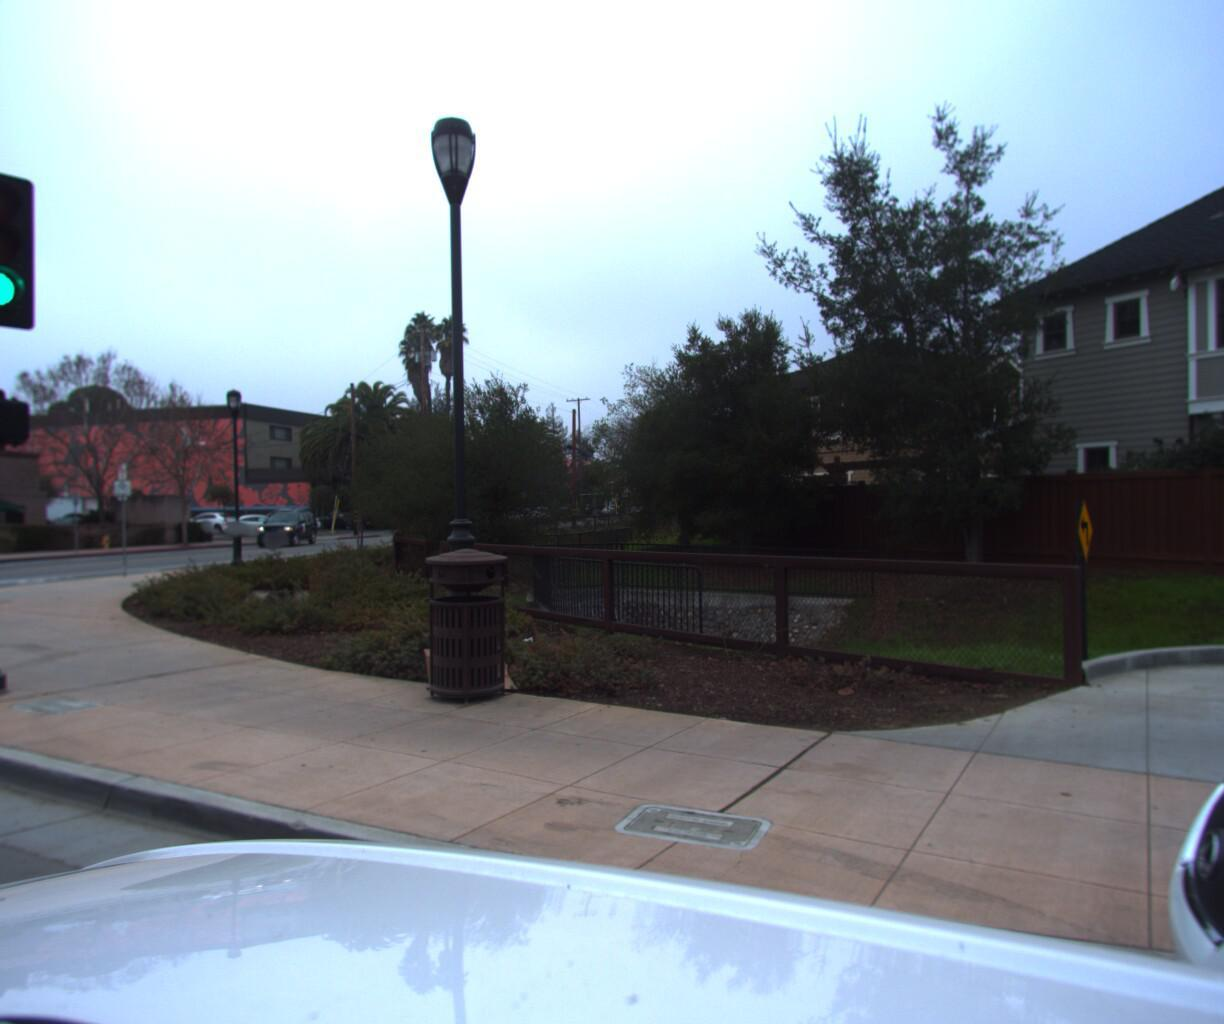car: (249, 506, 328, 548), (221, 509, 298, 533)
